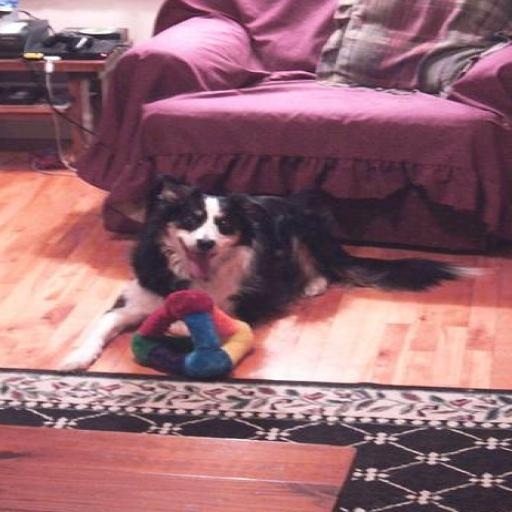dog_face: (139, 181, 278, 268)
